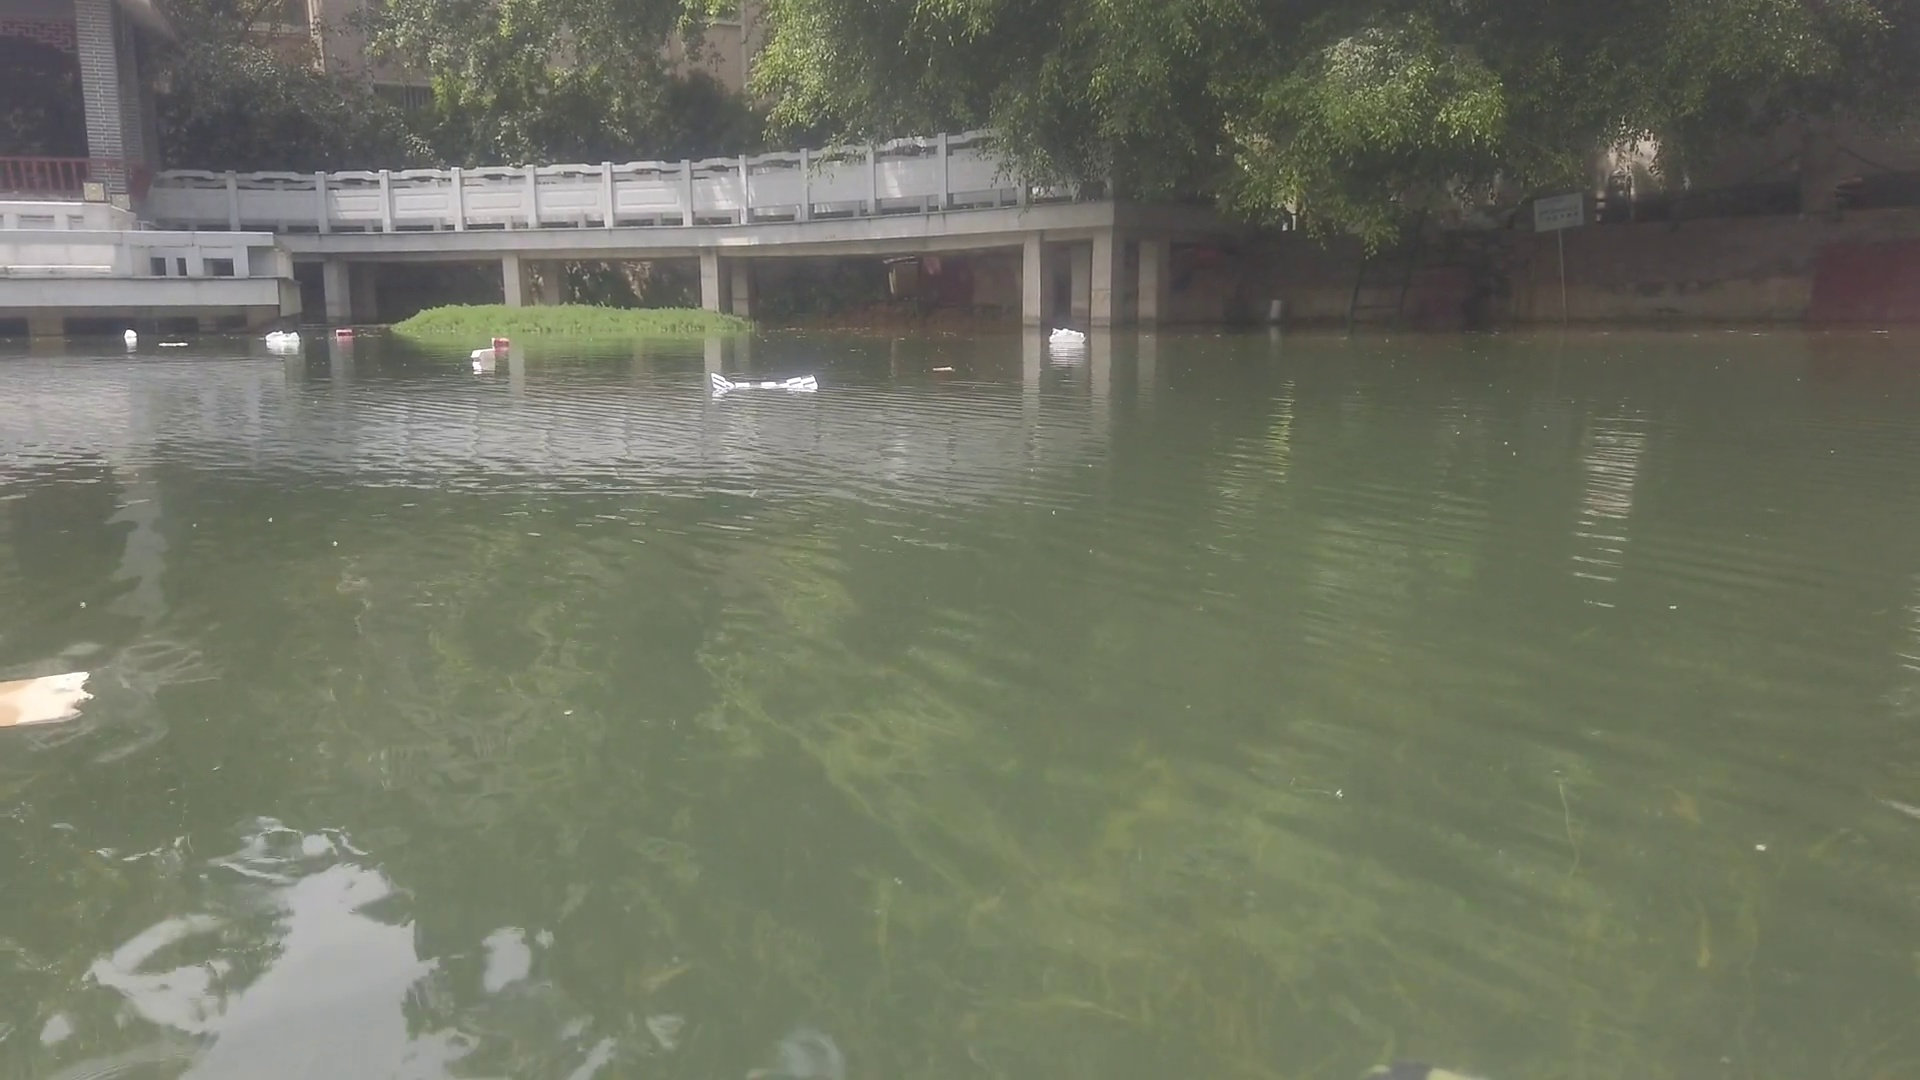bottle: (488, 334, 510, 348), (335, 324, 353, 339)
carton: (468, 348, 497, 360)
paper: (1, 661, 95, 727), (708, 367, 818, 394), (158, 338, 189, 351), (927, 363, 953, 376)
plastic: (1047, 323, 1087, 344), (265, 328, 299, 344), (120, 326, 136, 339)
